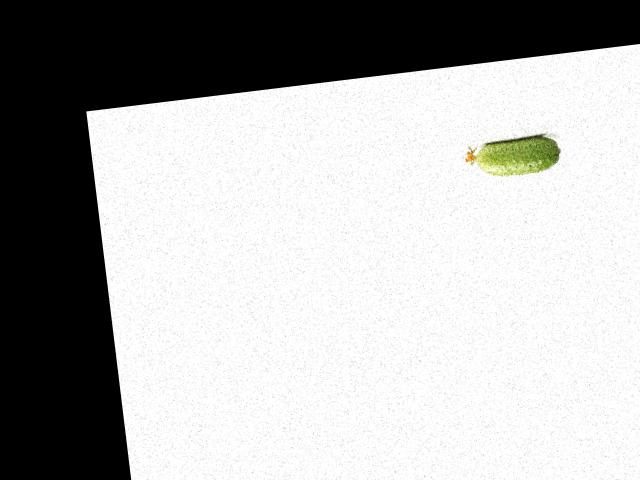cucumber: (464, 132, 564, 180)
